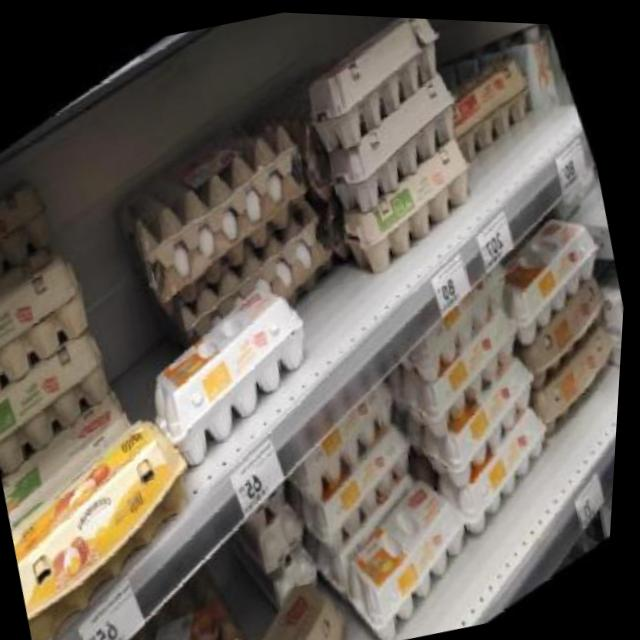Egg: (0, 392, 241, 640), (124, 257, 347, 483), (319, 447, 505, 640), (324, 123, 498, 289), (0, 313, 147, 504), (0, 237, 126, 432), (287, 408, 446, 560), (388, 297, 548, 448), (408, 346, 568, 497), (0, 157, 86, 326), (201, 558, 371, 640), (250, 493, 321, 570), (265, 535, 336, 612)
